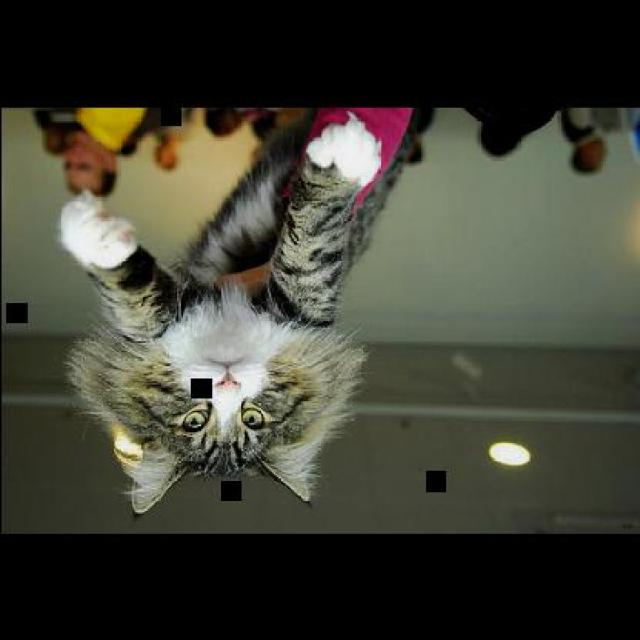unauthorized: (54, 107, 423, 516)
